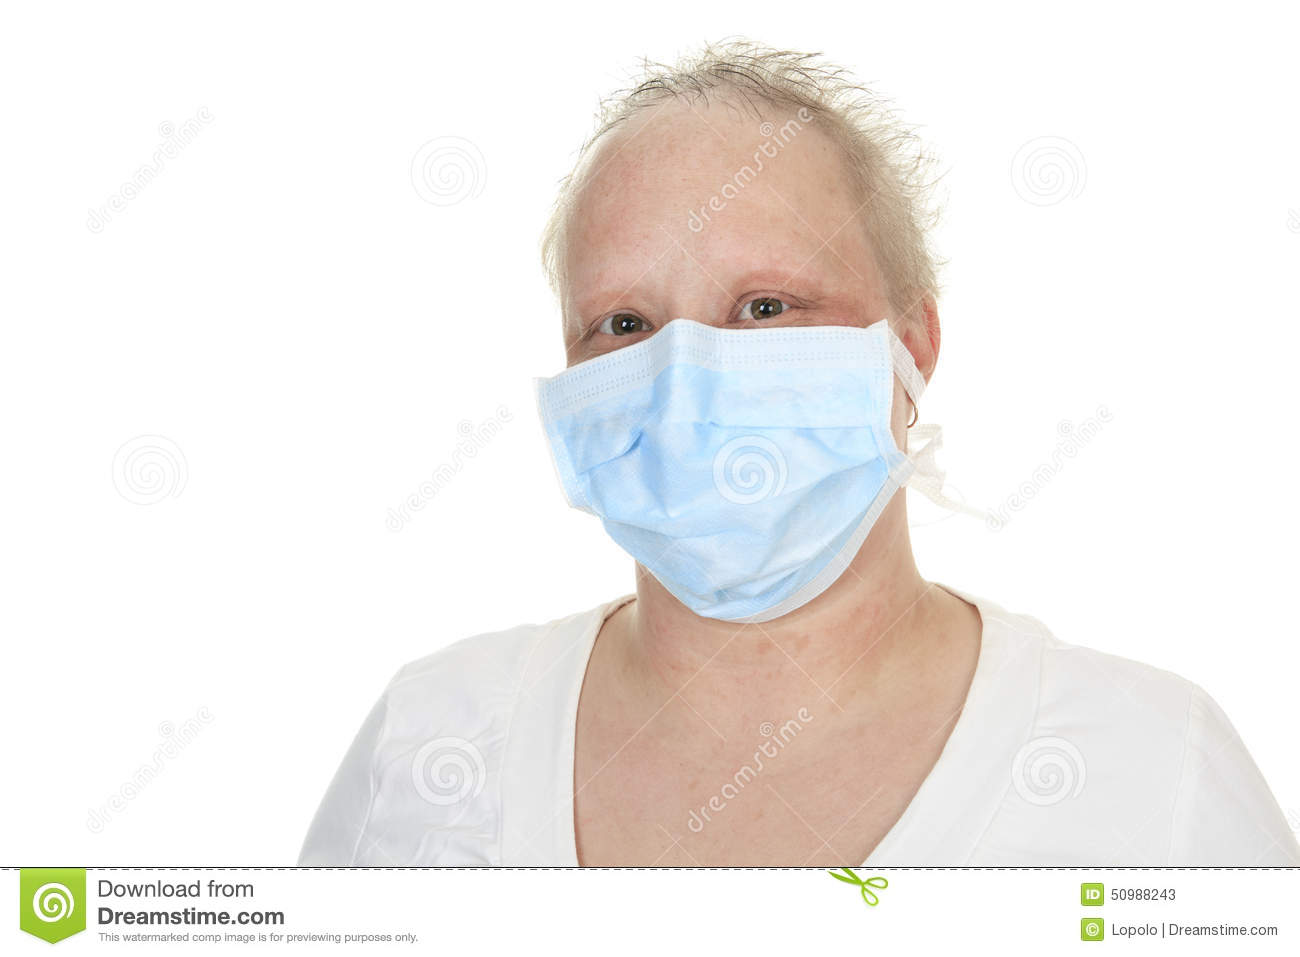mask: (536, 313, 908, 623)
